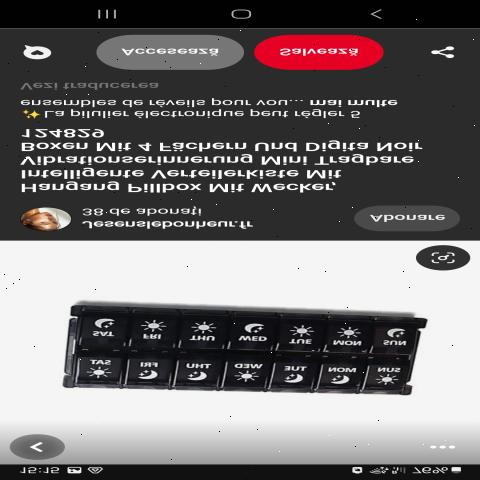PillBox: (33, 296, 456, 404)
